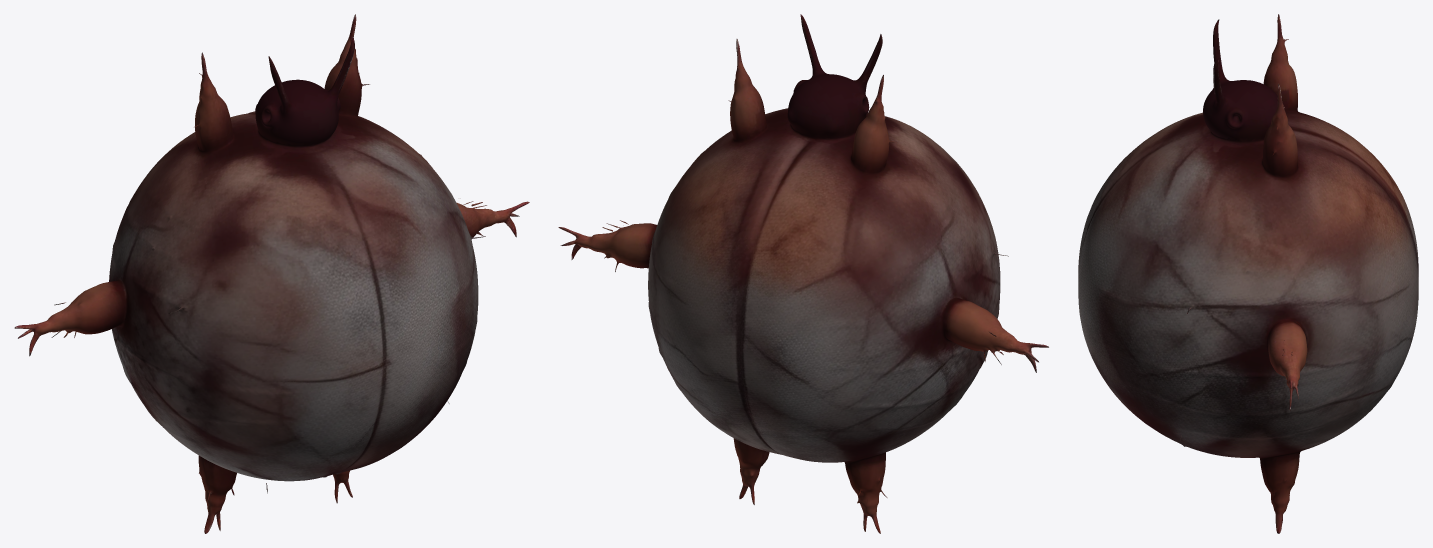
File: vet_parasite_sarcoptic_mite.glb
3 views of the same model, side by side, from view 1: azimuth 30°, elevation 25°; view 2: azimuth 150°, elevation 25°; view 3: azimuth 270°, elevation 25° (orthographic). The views are drawn at different scales.
Parts seen in each view (by area): view 1: model; view 2: model; view 3: model.
Part boxes in pixels (<box>): model: <box>14,14,529,533</box>; model: <box>558,14,1048,533</box>; model: <box>1078,14,1418,533</box>.
Size of the model in its own units: 1.9 by 1.75 by 1.16.
1 material, 1 textured.
